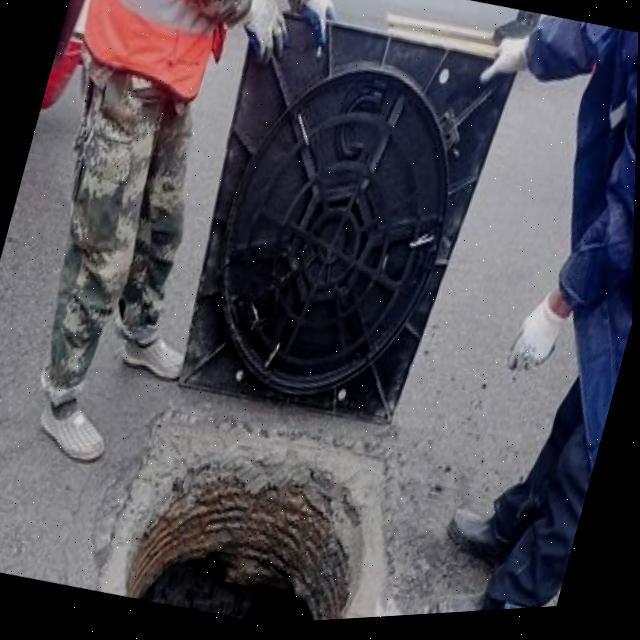manhole: (93, 378, 414, 635)
